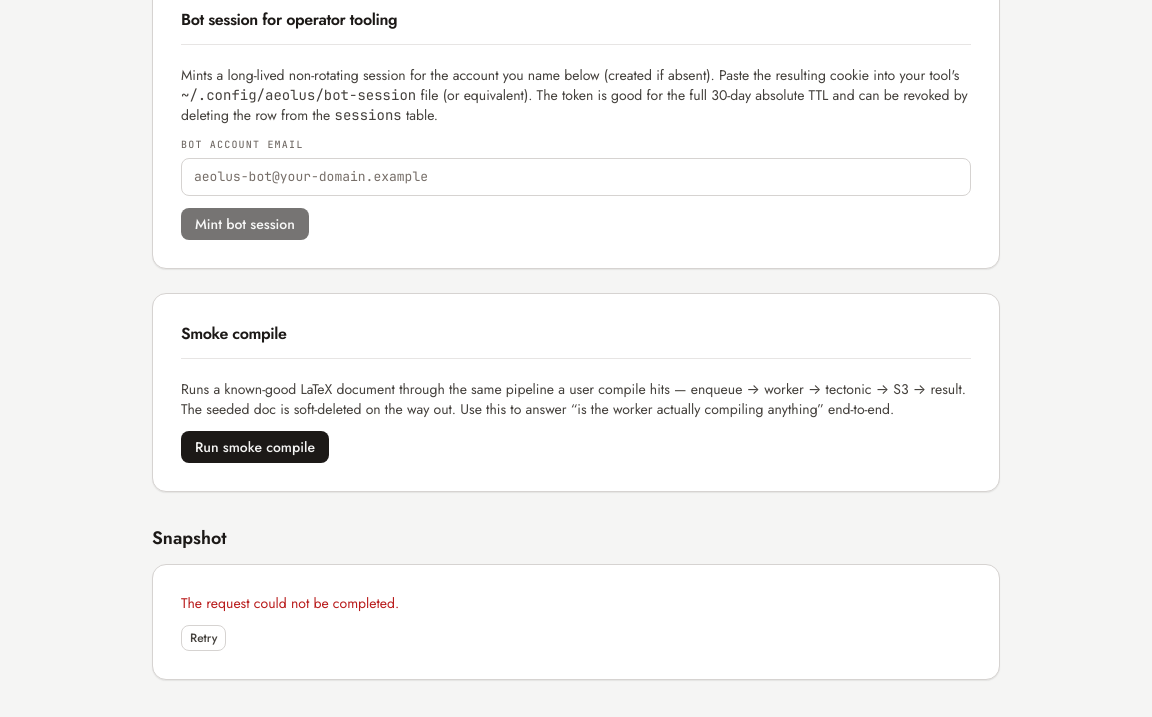
Test: AdminDiagnosticsRoute — snapshot failure › replaces Loading… with the error and a Retry that fetches again
(page scrolled)
Expected: the element with test id "diag-snapshot-error" shows "The request could not be completed.", [181, 592, 399, 612]
Step 1. Click the button with test id "diag-retry" → {"x": 204, "y": 638}, box [181, 624, 226, 650]
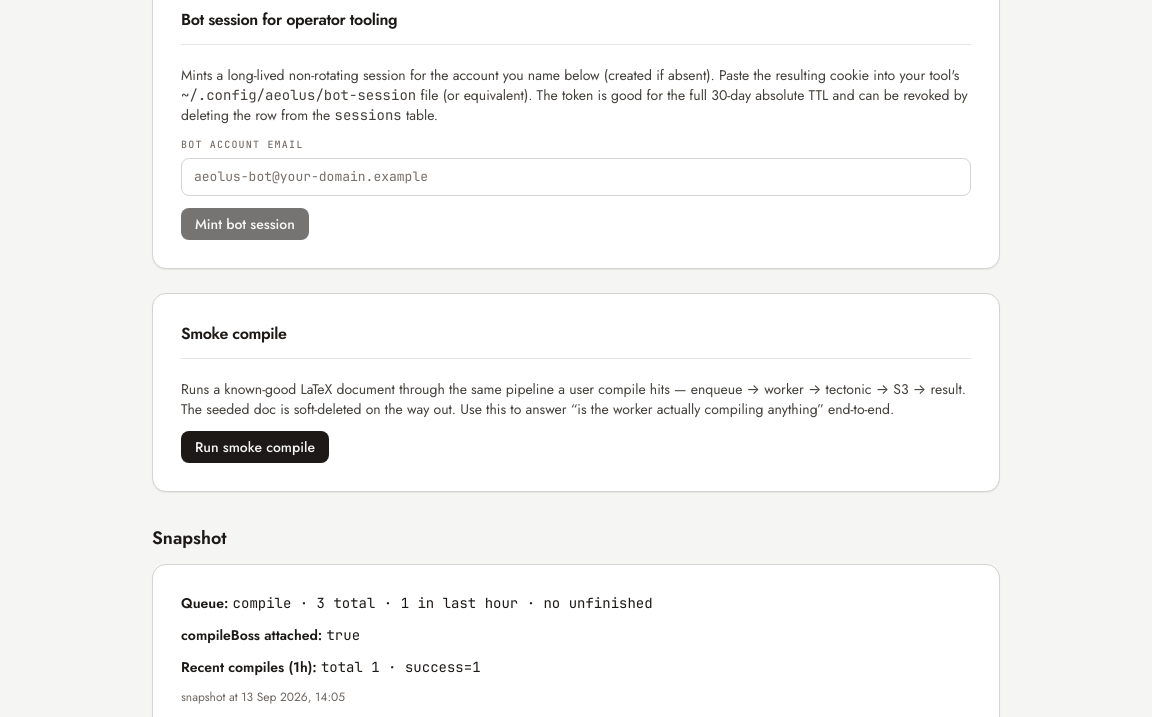
Now the text "snapshot at 13 Sep 2026, 14:05" is shown, box [181, 688, 345, 706]
